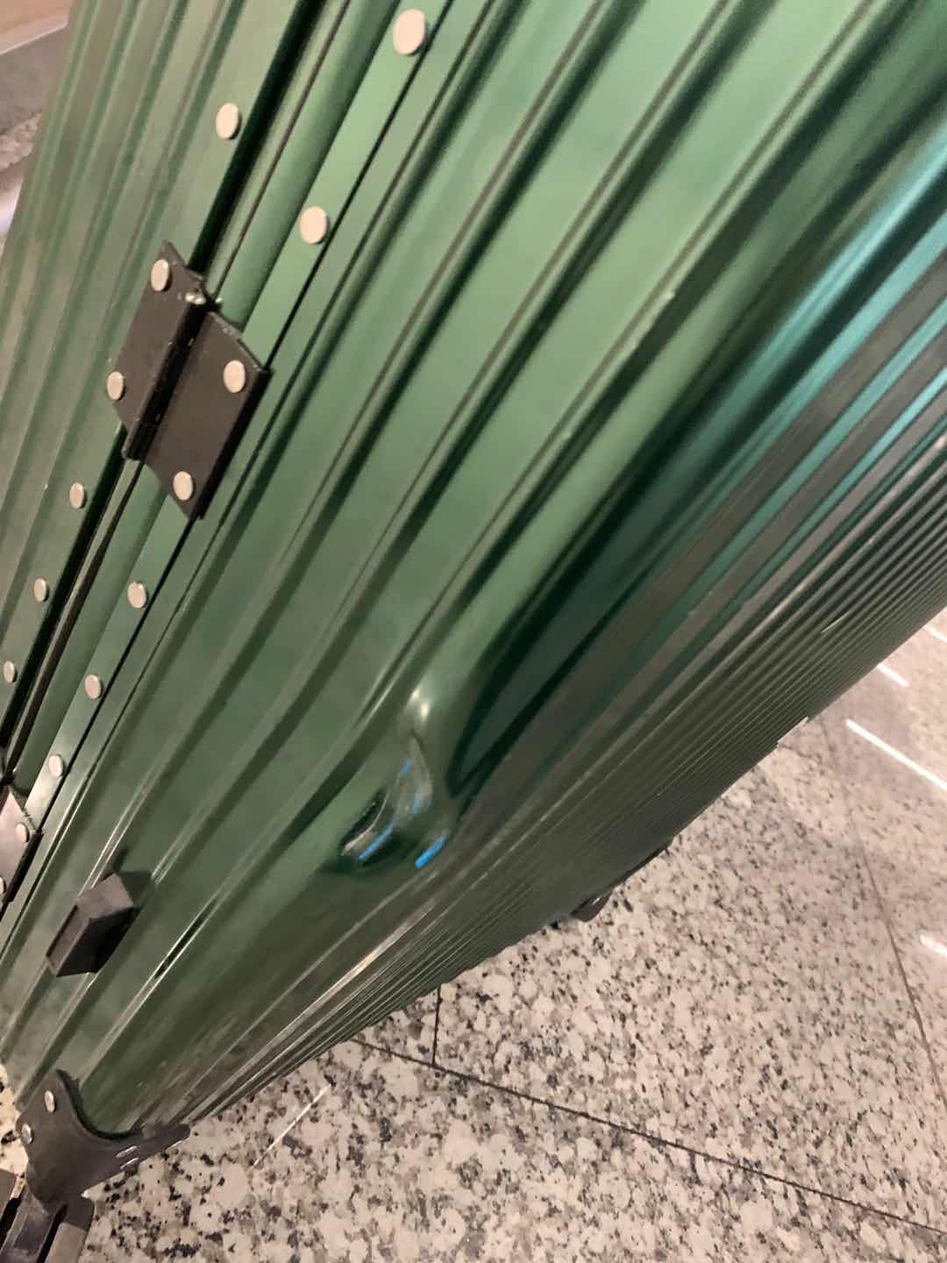rupture: (310, 718, 453, 874)
